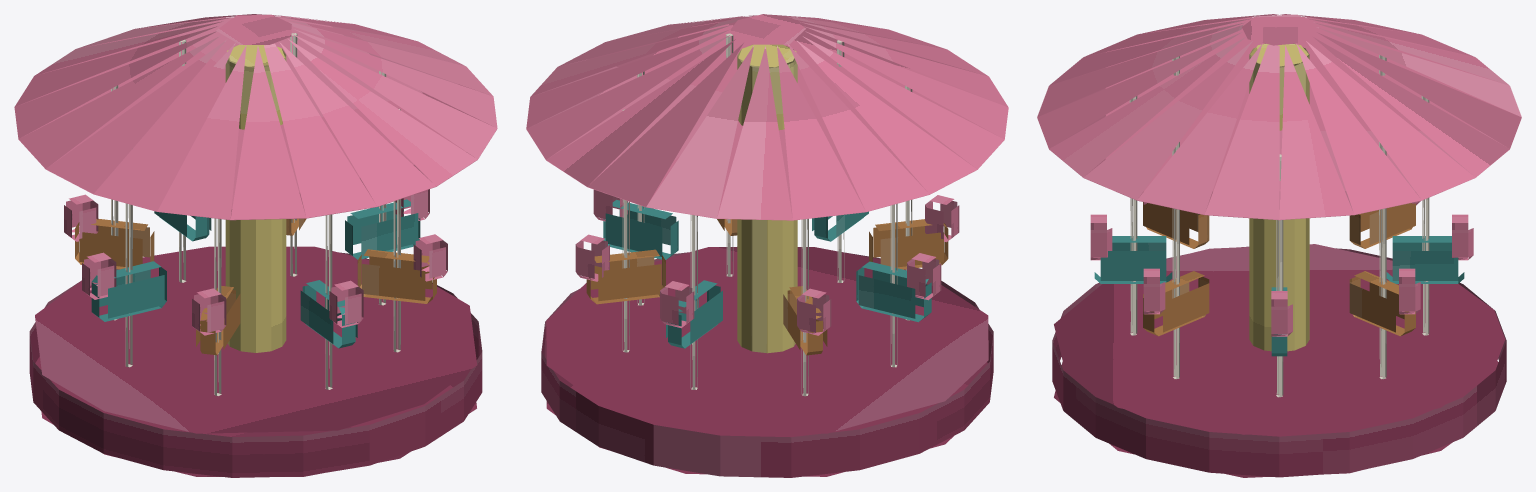
The model's file is carnival_carousel.glb.
3 renders of one model, left to right at view 1: azimuth 30°, elevation 25°; view 2: azimuth 150°, elevation 25°; view 3: azimuth 270°, elevation 25°, orthographic.
Parts seen in each view (by area): view 1: Canopy, CarouselBase, CenterColumn, HorseBody_7, HorseBody_4, HorseBody_0, HorseBody_3, HorseBody_6, HorseBody_5, HorseHead_6, HorseHead_7, HorseHead_5 (+8 smaller); view 2: Canopy, CarouselBase, CenterColumn, HorseBody_1, HorseBody_4, HorseBody_0, HorseBody_5, HorseBody_2, HorseBody_3, HorseHead_2, HorseHead_3, HorseHead_1 (+8 smaller); view 3: Canopy, CarouselBase, CenterColumn, HorseBody_2, HorseBody_6, HorseBody_1, HorseBody_7, HorseBody_5, HorseBody_3, Pole_1, Pole_7, HorseHead_7 (+7 smaller).
Boxes of the visible parts, box(x1,y1,x2,y2) form: Canopy: box(14, 14, 497, 220); CarouselBase: box(29, 246, 482, 477); CenterColumn: box(225, 44, 286, 352); HorseBody_7: box(357, 249, 436, 303); HorseBody_4: box(91, 261, 166, 321); HorseBody_0: box(345, 199, 420, 259); HorseBody_3: box(75, 218, 154, 269); HorseBody_6: box(300, 280, 357, 348); HorseBody_5: box(196, 286, 240, 355); HorseHead_6: box(329, 280, 363, 327); HorseHead_7: box(413, 234, 447, 281); HorseHead_5: box(192, 288, 226, 335); Canopy: box(526, 14, 1008, 220); CarouselBase: box(541, 247, 993, 477); CenterColumn: box(737, 44, 797, 353); HorseBody_1: box(586, 249, 665, 304); HorseBody_4: box(856, 261, 931, 322); HorseBody_0: box(603, 199, 678, 259); HorseBody_5: box(869, 219, 948, 269); HorseBody_2: box(666, 280, 722, 348); HorseBody_3: box(783, 286, 827, 355); HorseHead_2: box(660, 281, 694, 328); HorseHead_3: box(797, 288, 831, 335); HorseHead_1: box(575, 234, 609, 281); Canopy: box(1037, 14, 1521, 220); CarouselBase: box(1052, 244, 1506, 477); CenterColumn: box(1249, 43, 1309, 351); HorseBody_2: box(1386, 236, 1464, 283); HorseBody_6: box(1094, 236, 1172, 283); HorseBody_1: box(1349, 271, 1415, 336); HorseBody_7: box(1143, 271, 1209, 336); HorseBody_5: box(1143, 202, 1209, 248); HorseBody_3: box(1349, 203, 1415, 248); Pole_1: box(1379, 142, 1386, 379); Pole_7: box(1172, 142, 1179, 379); HorseHead_7: box(1143, 268, 1165, 314).
Size of the model in its own units: 4.48 by 3.6 by 4.48.
1 material, 1 textured.
